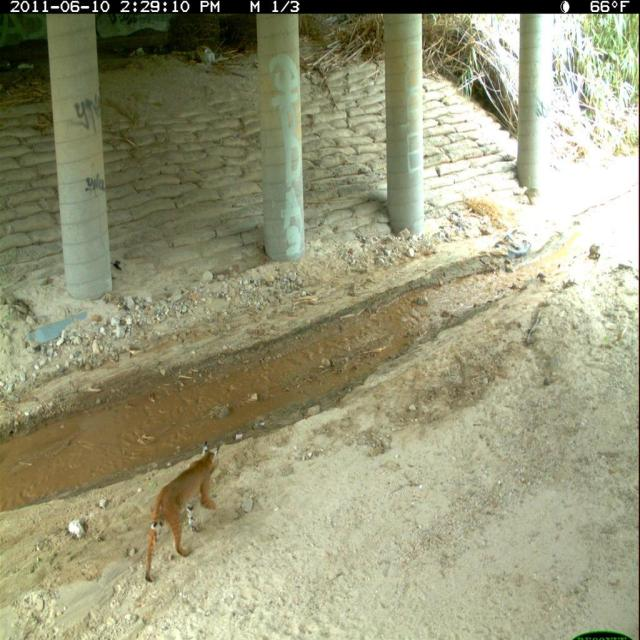bobcat: (141, 436, 225, 591)
